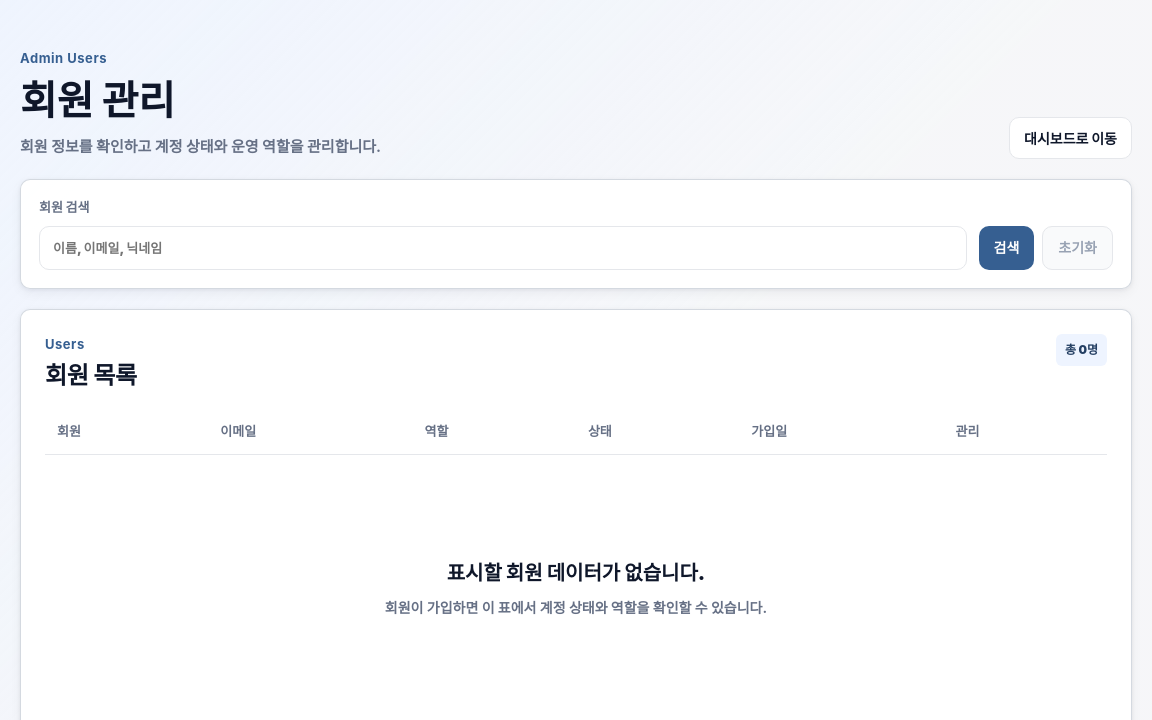
AdminUsersView › 검색어를 입력하면 keyword로 재조회한다
Type "  agent  " into the search field labelled "회원 검색" at (503, 248), box left=39, top=226, right=967, bottom=270
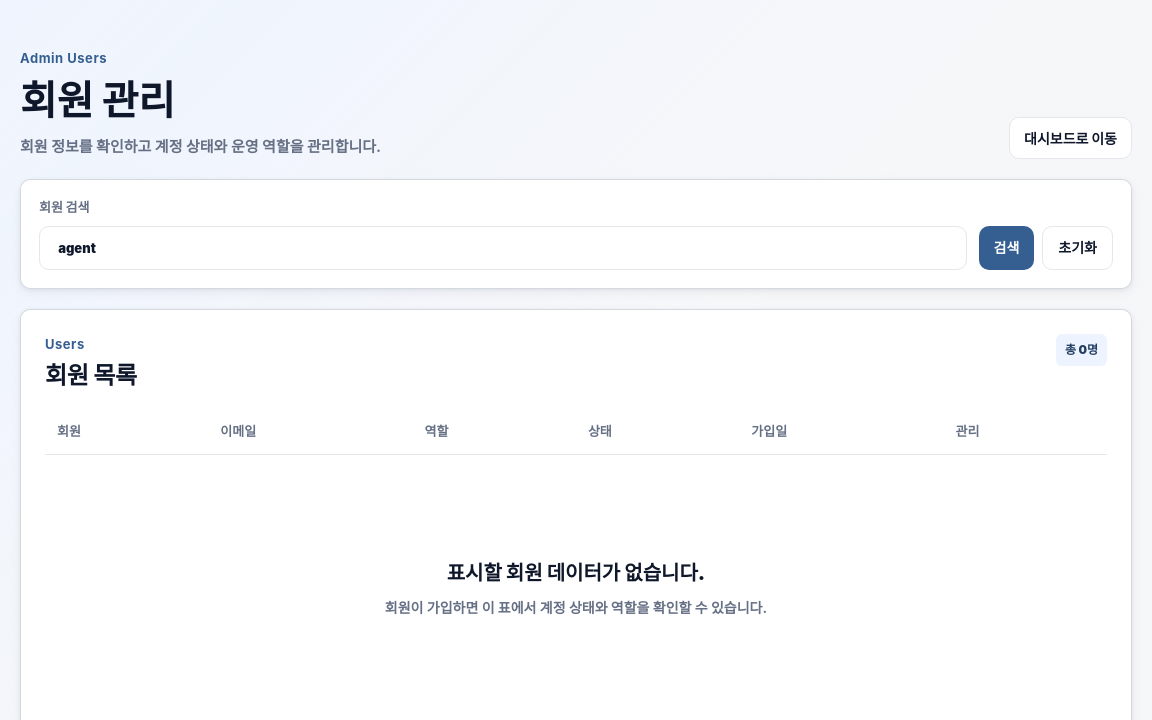
Submit the form with class "toolbar-panel", box left=20, top=180, right=1132, bottom=289
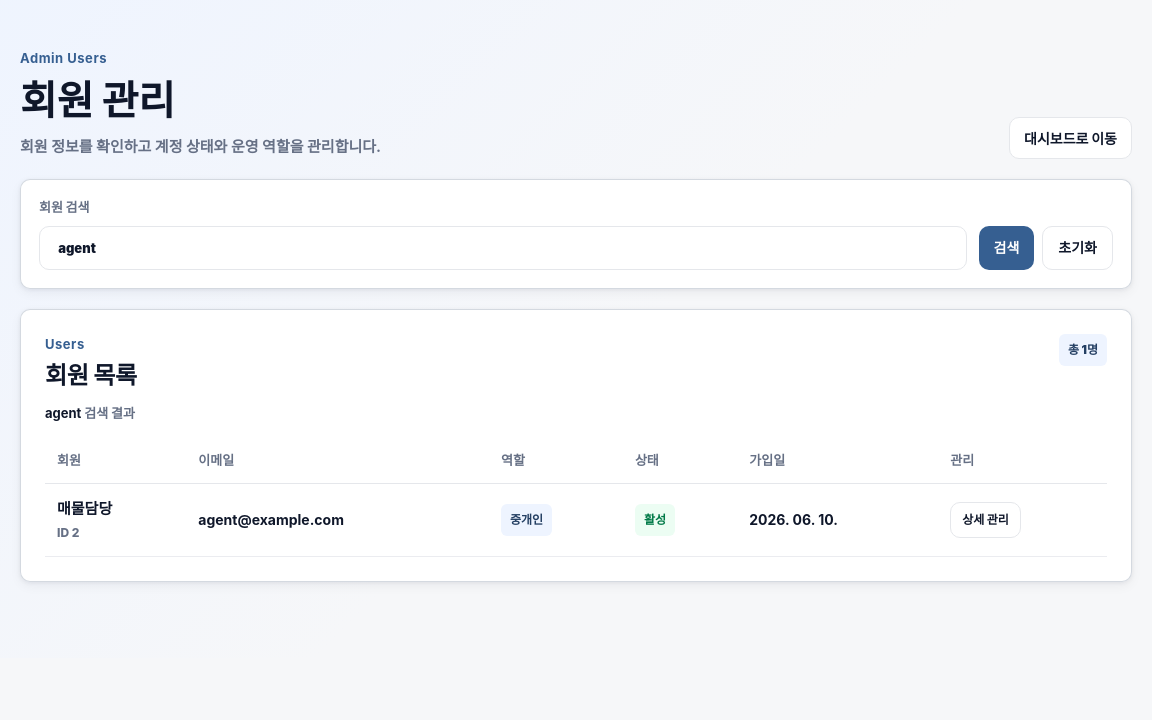
Expected: the text "agent 검색 결과" is shown, left=45, top=405, right=135, bottom=421
Expected: the text "매물담당" is shown, left=57, top=499, right=112, bottom=518
Expected: the text "중개인" is shown, left=501, top=504, right=552, bottom=536
